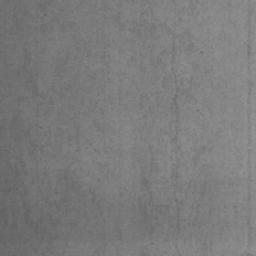Silk spot: (115, 0, 253, 256), (0, 0, 128, 256), (222, 111, 256, 202), (0, 6, 27, 36), (244, 0, 253, 70), (240, 80, 253, 104), (0, 208, 15, 228)
